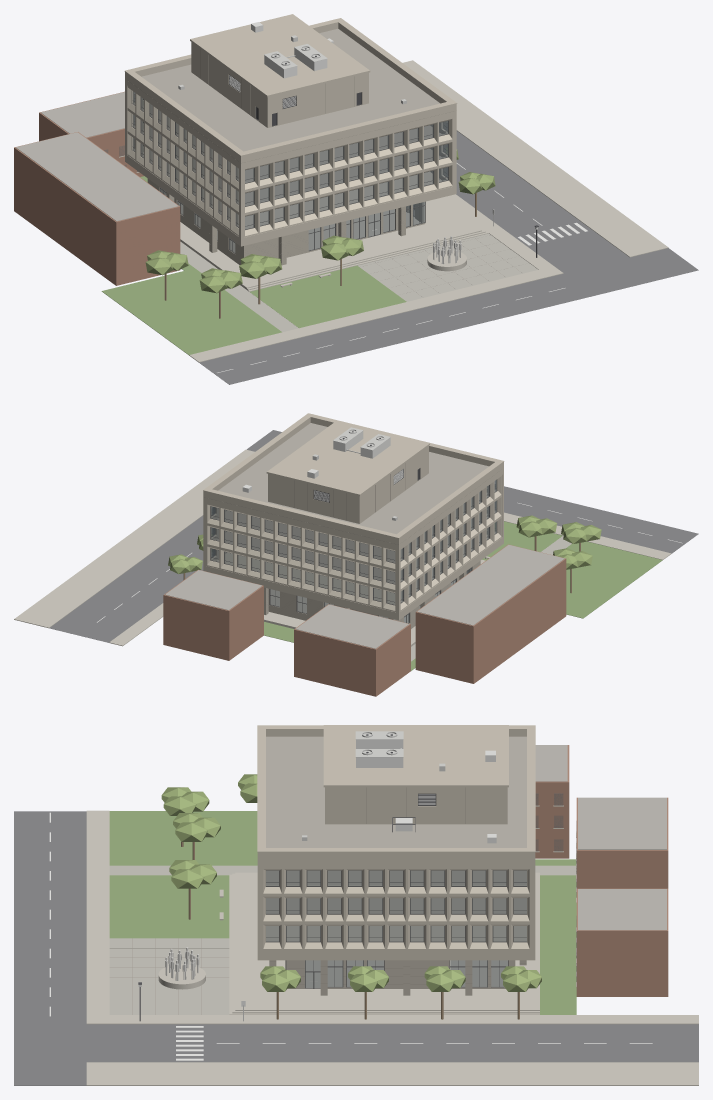
The model's file is clay-calgary-cbe-brutalist-hq-clay-v004.glb.
3 renders of one model, top to bottom at view 1: azimuth 30°, elevation 25°; view 2: azimuth 150°, elevation 25°; view 3: azimuth 270°, elevation 25°, orthographic. The views are drawn at different scales.
Parts seen in each view (by area): view 1: CLAY_PRECAST, CLAY_ASPHALT, CLAY_CONCRETE, CLAY_GRASS, CLAY_NEIGHBOUR, CLAY_ROOF, CLAY_GLASS, CLAY_MEMBRANE, CLAY_PAVING, CLAY_PLANTING, CLAY_FRAME, CLAY_BOARD (+4 smaller); view 2: CLAY_PRECAST, CLAY_NEIGHBOUR, CLAY_ASPHALT, CLAY_MEMBRANE, CLAY_CONCRETE, CLAY_GLASS, CLAY_ROOF, CLAY_GRASS, CLAY_FRAME, CLAY_FLOOR, CLAY_PLANTING, CLAY_BOARD (+2 smaller); view 3: CLAY_PRECAST, CLAY_ASPHALT, CLAY_CONCRETE, CLAY_GRASS, CLAY_NEIGHBOUR, CLAY_ROOF, CLAY_GLASS, CLAY_MEMBRANE, CLAY_PAVING, CLAY_PLANTING, CLAY_FLOOR, CLAY_FRAME (+6 smaller).
Boxes of the visible parts, x1,y1,x2,y2 form: CLAY_PRECAST: [124, 14, 457, 246]; CLAY_ASPHALT: [199, 131, 698, 384]; CLAY_CONCRETE: [165, 60, 668, 362]; CLAY_GRASS: [101, 176, 406, 355]; CLAY_NEIGHBOUR: [14, 91, 180, 285]; CLAY_ROOF: [141, 28, 439, 151]; CLAY_GLASS: [104, 91, 448, 252]; CLAY_MEMBRANE: [16, 92, 178, 221]; CLAY_PAVING: [180, 233, 538, 332]; CLAY_PLANTING: [145, 149, 495, 293]; CLAY_FRAME: [132, 74, 448, 253]; CLAY_BOARD: [147, 178, 425, 265]; CLAY_PRECAST: [203, 413, 504, 620]; CLAY_NEIGHBOUR: [163, 544, 566, 696]; CLAY_ASPHALT: [49, 430, 698, 642]; CLAY_MEMBRANE: [165, 545, 564, 648]; CLAY_CONCRETE: [14, 449, 671, 646]; CLAY_GLASS: [211, 479, 496, 623]; CLAY_ROOF: [218, 423, 488, 534]; CLAY_GRASS: [264, 521, 662, 670]; CLAY_FRAME: [210, 468, 496, 623]; CLAY_FLOOR: [217, 492, 487, 582]; CLAY_PLANTING: [168, 515, 601, 573]; CLAY_BOARD: [264, 561, 480, 628]; CLAY_PRECAST: [257, 725, 535, 960]; CLAY_ASPHALT: [14, 811, 698, 1085]; CLAY_CONCRETE: [86, 810, 698, 1085]; CLAY_GRASS: [109, 811, 576, 1014]; CLAY_NEIGHBOUR: [535, 745, 668, 996]; CLAY_ROOF: [266, 736, 526, 847]; CLAY_GLASS: [266, 793, 576, 987]; CLAY_MEMBRANE: [535, 745, 666, 930]; CLAY_PAVING: [109, 865, 576, 1014]; CLAY_PLANTING: [161, 774, 541, 991]; CLAY_FLOOR: [266, 870, 526, 913]; CLAY_FRAME: [266, 793, 526, 988].
Size of the model in its own units: 84.9 by 28.37 by 89.55.
